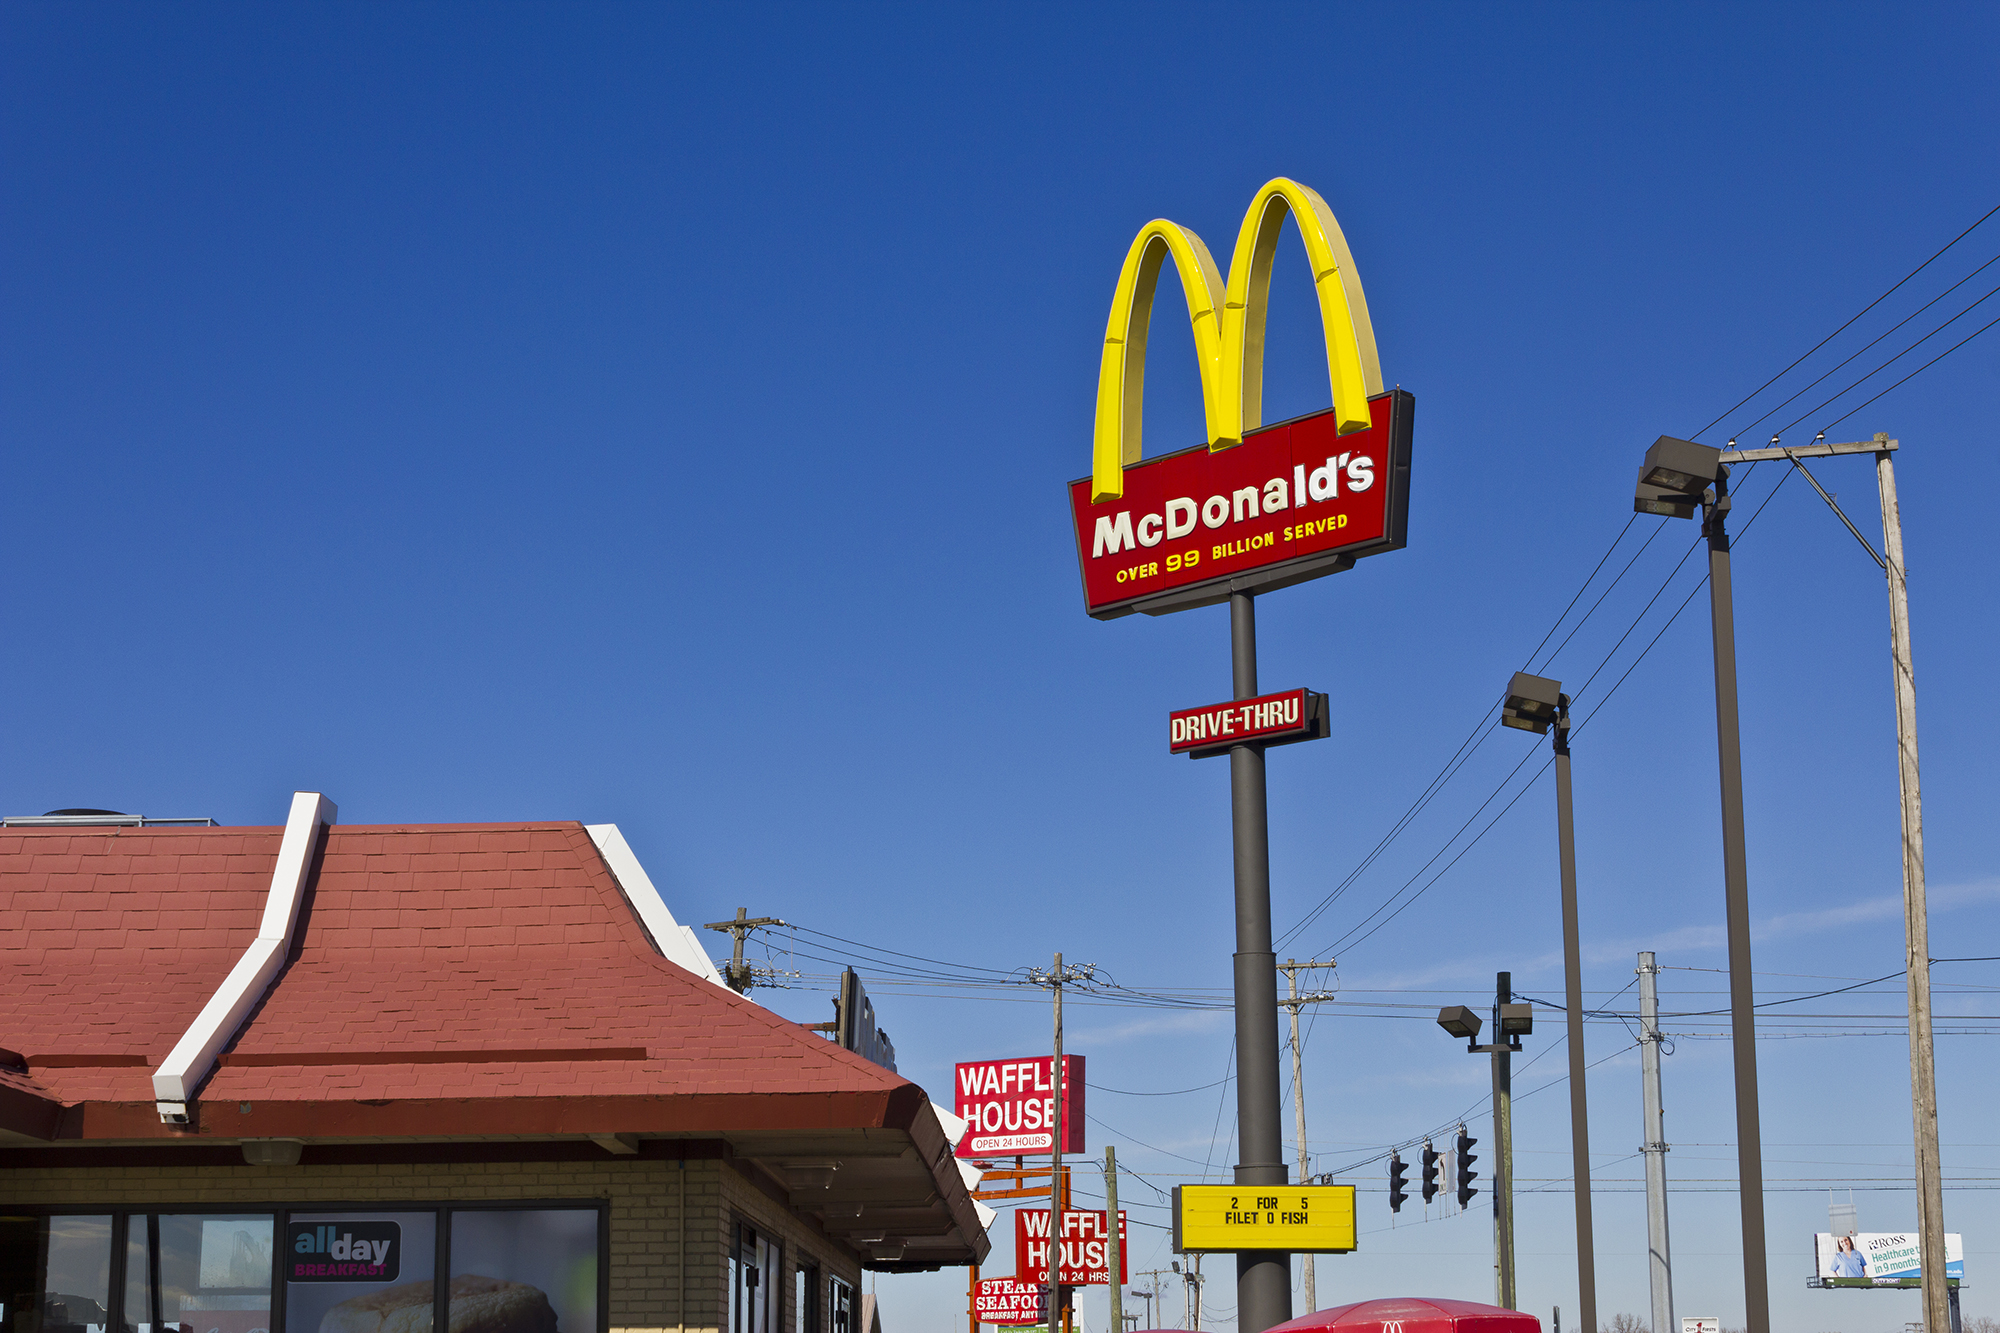mcdonalds: (1084, 176, 1386, 515)
